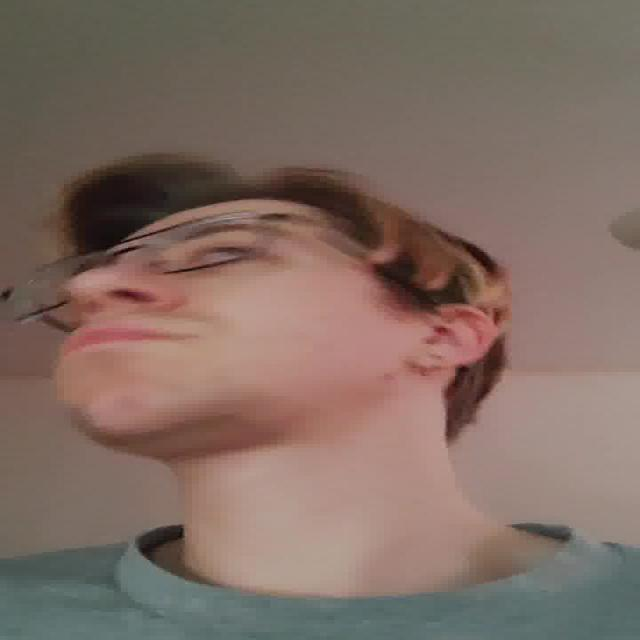earlobe: (407, 352, 461, 374)
eye: (184, 243, 268, 272)
nose: (70, 296, 165, 332)
wholeear: (409, 304, 500, 370)
